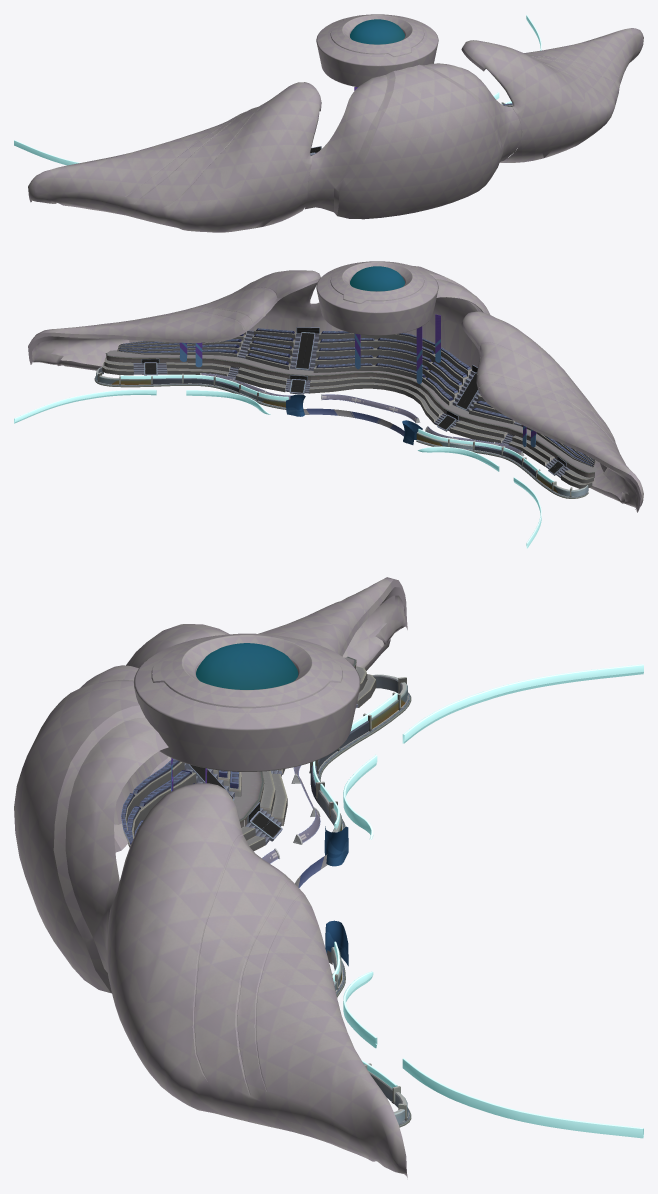
The model's file is pref_sm_4v4pointbake_CSD_S_lv2.fbx.
3 renders of one model, top to bottom at view 1: azimuth 30°, elevation 25°; view 2: azimuth 150°, elevation 25°; view 3: azimuth 270°, elevation 25°, orthographic. The views are drawn at different scales.
Visible parts, largest first — view 1: sm_4v4pointbake_CSD_S_f_lv2, sm_4v4pointbake_CSD_S_e_lv2, sm_4v4pointbake_CSD_S_i_lv2; view 2: sm_4v4pointbake_CSD_S_f_lv2, sm_4v4pointbake_CSD_S_h_lv2, sm_4v4pointbake_CSD_S_e_lv2, sm_4v4pointbake_CSD_S_i_lv2, sm_4v4pointbake_CSD_S_c_lv2, sm_4v4pointbake_CSD_S_g_lv2, sm_4v4pointbake_CSD_S_d_lv2, sm_4v4pointbake_CSD_S_a_lv2; view 3: sm_4v4pointbake_CSD_S_f_lv2, sm_4v4pointbake_CSD_S_e_lv2, sm_4v4pointbake_CSD_S_i_lv2, sm_4v4pointbake_CSD_S_h_lv2, sm_4v4pointbake_CSD_S_c_lv2, sm_4v4pointbake_CSD_S_d_lv2.
Part boxes in pixels (x1=…): sm_4v4pointbake_CSD_S_f_lv2: x1=28, y1=28, x2=643, y2=232; sm_4v4pointbake_CSD_S_e_lv2: x1=316, y1=14, x2=438, y2=87; sm_4v4pointbake_CSD_S_i_lv2: x1=14, y1=15, x2=541, y2=165; sm_4v4pointbake_CSD_S_f_lv2: x1=28, y1=266, x2=643, y2=512; sm_4v4pointbake_CSD_S_h_lv2: x1=102, y1=327, x2=597, y2=488; sm_4v4pointbake_CSD_S_e_lv2: x1=316, y1=261, x2=438, y2=335; sm_4v4pointbake_CSD_S_i_lv2: x1=14, y1=374, x2=553, y2=548; sm_4v4pointbake_CSD_S_c_lv2: x1=94, y1=367, x2=588, y2=498; sm_4v4pointbake_CSD_S_g_lv2: x1=179, y1=314, x2=536, y2=447; sm_4v4pointbake_CSD_S_d_lv2: x1=286, y1=394, x2=422, y2=444; sm_4v4pointbake_CSD_S_a_lv2: x1=200, y1=373, x2=524, y2=456; sm_4v4pointbake_CSD_S_f_lv2: x1=14, y1=577, x2=407, y2=1177; sm_4v4pointbake_CSD_S_e_lv2: x1=133, y1=633, x2=360, y2=771; sm_4v4pointbake_CSD_S_i_lv2: x1=313, y1=664, x2=643, y2=1138; sm_4v4pointbake_CSD_S_h_lv2: x1=121, y1=656, x2=376, y2=851; sm_4v4pointbake_CSD_S_c_lv2: x1=309, y1=674, x2=411, y2=1127; sm_4v4pointbake_CSD_S_d_lv2: x1=295, y1=826, x2=348, y2=966.
Size of the model in its own units: 126 by 29.79 by 60.12.
